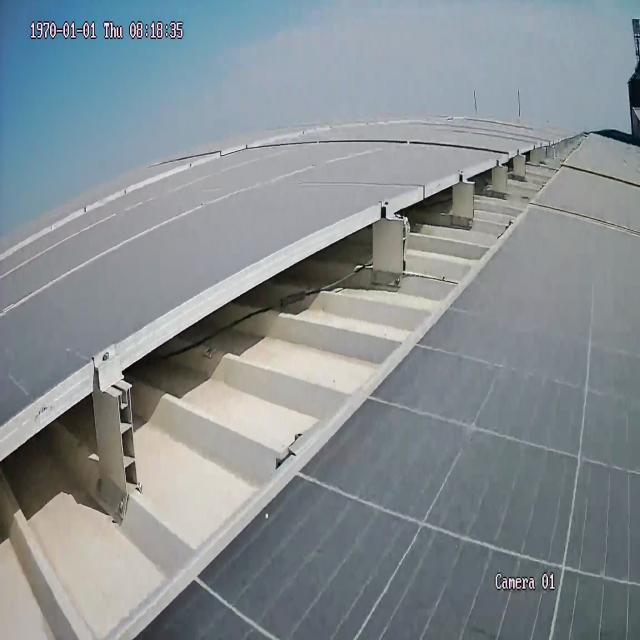outher panel: (0, 130, 591, 637)
